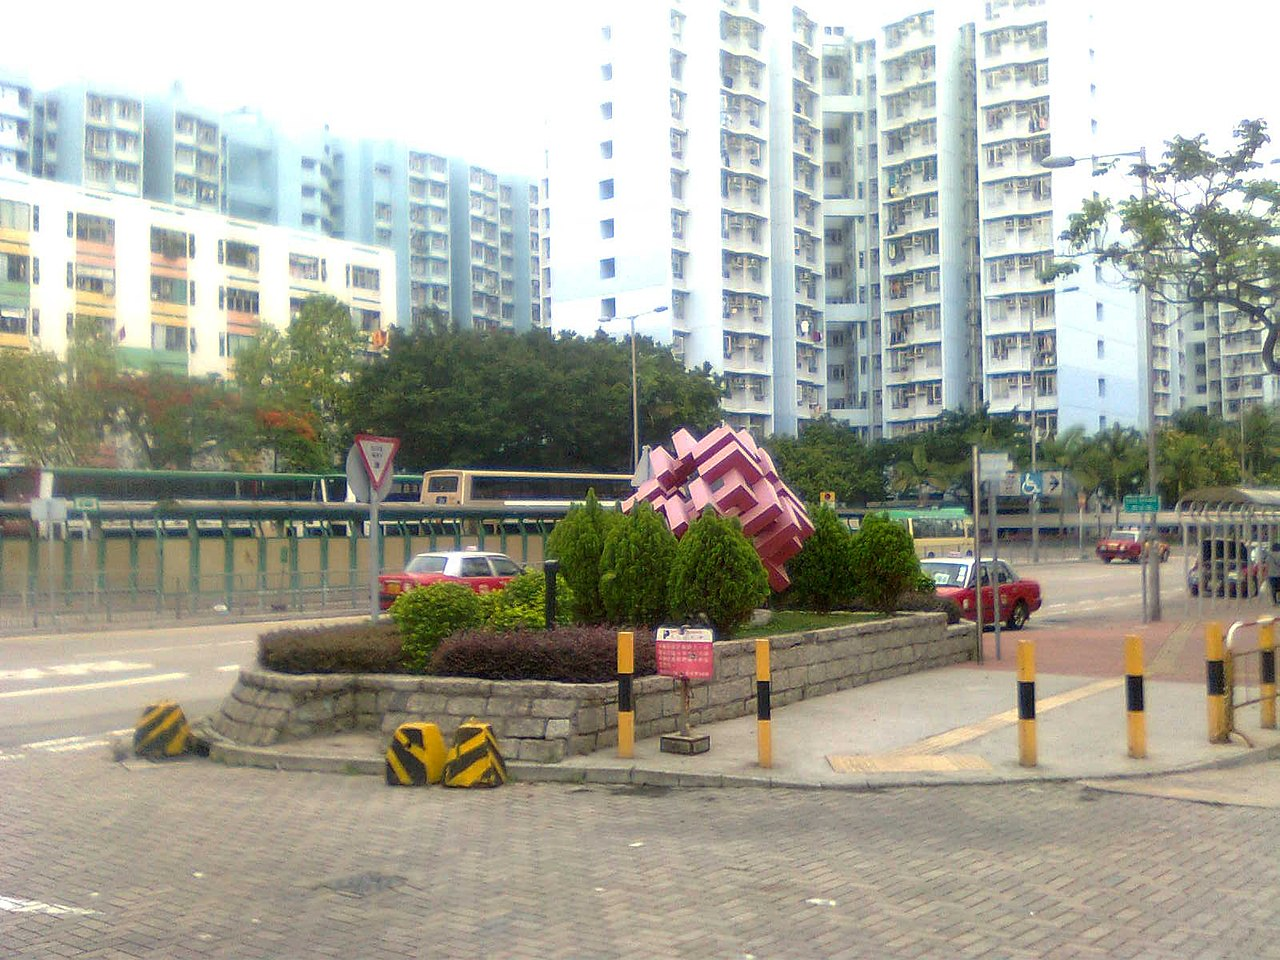Give Way: (357, 432, 404, 493)
